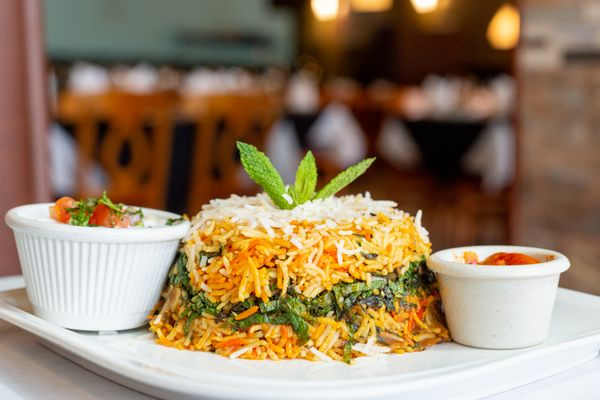pizza: (426, 243, 571, 349)
sushi: (3, 196, 190, 332), (426, 244, 570, 349)
